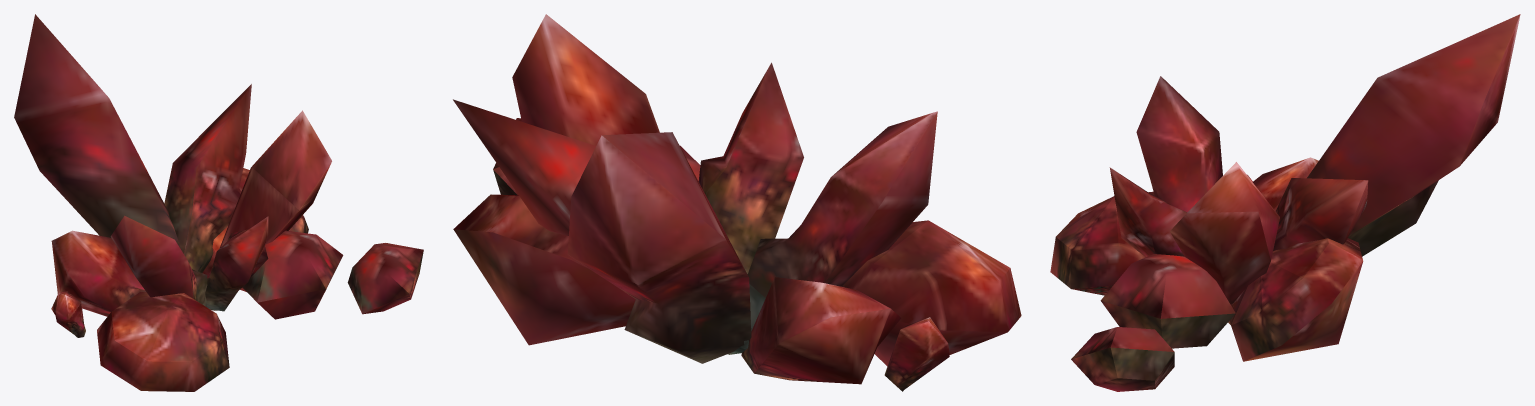
File: baoshikuang01_53_38_5808out.fbx
The picture shows the model from 3 angles, left to right: view 1: azimuth 30°, elevation 25°; view 2: azimuth 150°, elevation 25°; view 3: azimuth 270°, elevation 25°; orthographic projection. The views are drawn at different scales.
Parts seen in each view (by area): view 1: baoshikuang01; view 2: baoshikuang01; view 3: baoshikuang01.
Boxes of the visible parts, bbox=[...] form: baoshikuang01: bbox=[14, 14, 423, 391]; baoshikuang01: bbox=[453, 14, 1021, 391]; baoshikuang01: bbox=[1050, 14, 1520, 391].
Bounding box in the file's own units: 0.5716 × 0.4359 × 0.6042.
